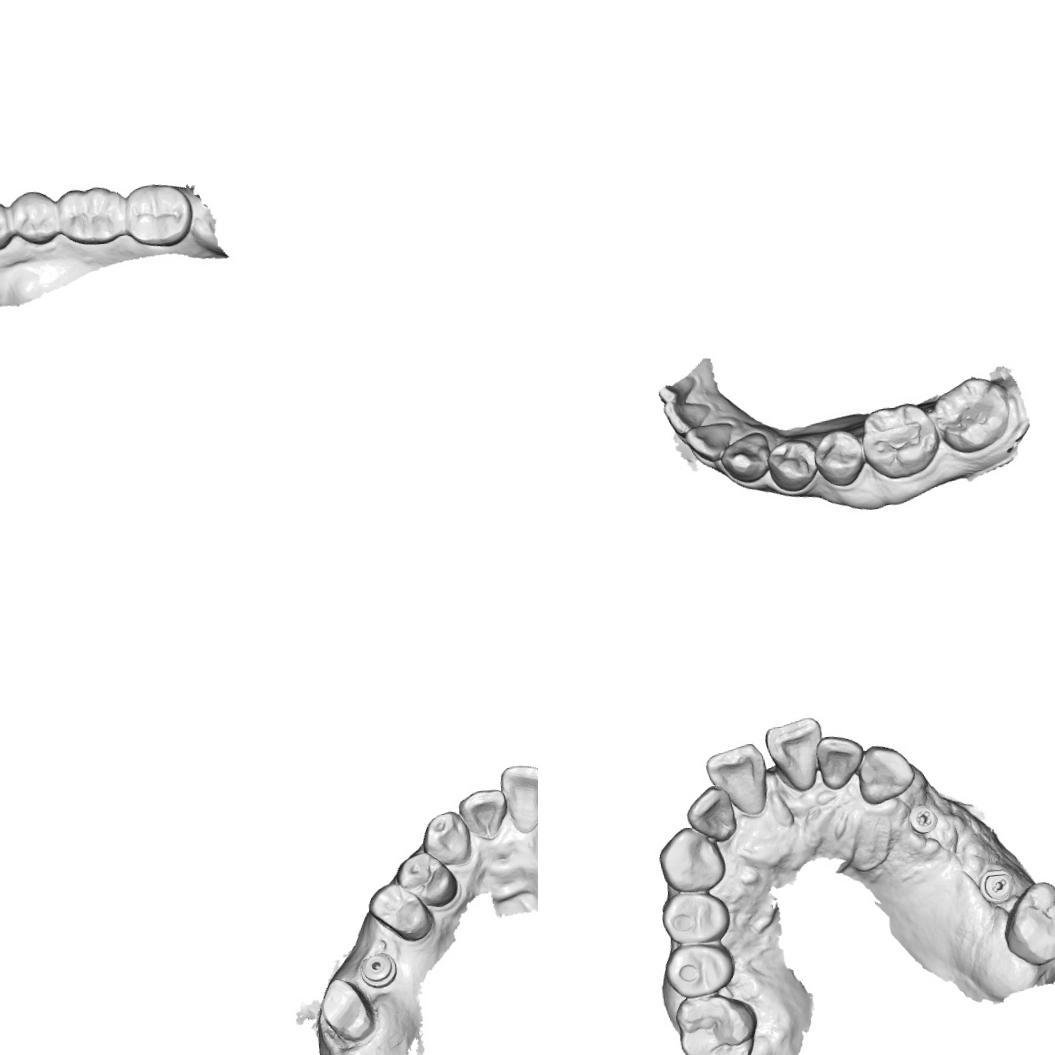canine: (655, 823, 729, 897), (854, 739, 918, 808), (418, 808, 474, 870), (718, 429, 773, 485)
crown: (317, 974, 382, 1051)
implant: (356, 949, 400, 990)
implant_minus: (977, 866, 1017, 906)
implant_plus: (906, 802, 941, 836)
incisor: (702, 740, 771, 822), (761, 714, 829, 796), (683, 781, 740, 846), (813, 732, 868, 793), (456, 787, 511, 844), (497, 760, 538, 836), (682, 420, 736, 466), (662, 394, 714, 437)
molar: (856, 399, 944, 483), (930, 372, 1016, 456), (672, 988, 762, 1055), (120, 178, 196, 252), (999, 880, 1055, 970), (54, 182, 128, 250)
premolar: (363, 877, 438, 948), (661, 938, 737, 1000), (657, 887, 734, 948), (391, 846, 461, 912), (810, 426, 867, 490), (5, 186, 61, 250), (764, 436, 822, 496), (0, 195, 14, 254)
